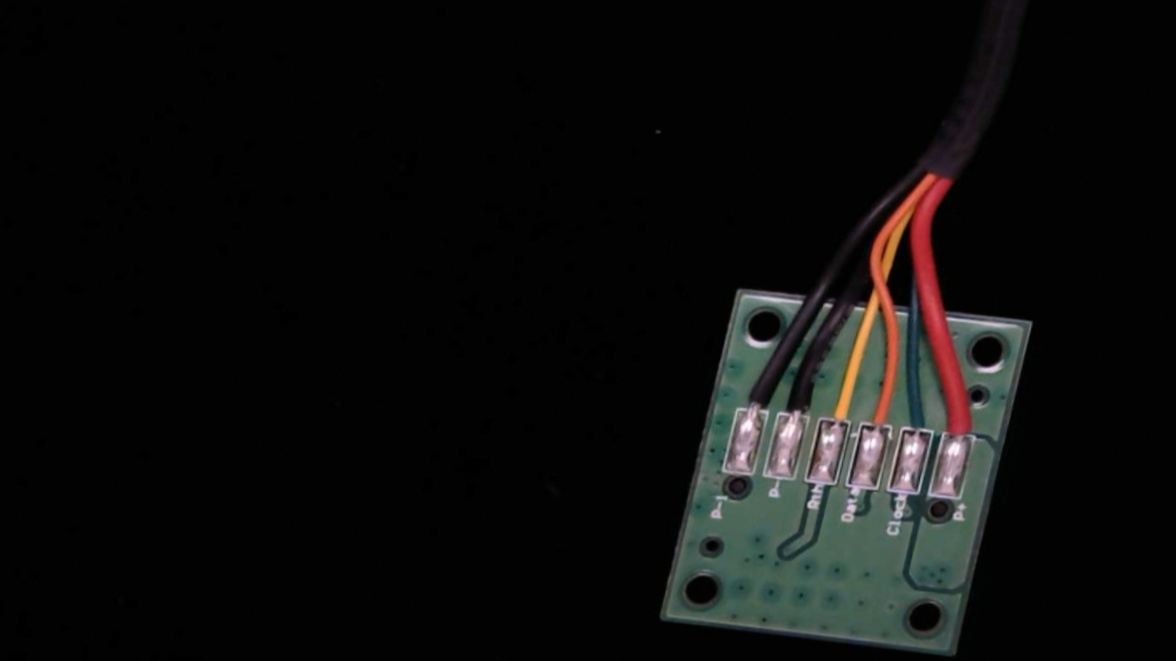Black: (774, 358, 826, 432)
Black1: (732, 358, 784, 427)
Green: (894, 385, 944, 446)
Orange: (855, 378, 905, 443)
Red: (935, 386, 987, 453)
Yellow: (815, 368, 866, 438)
